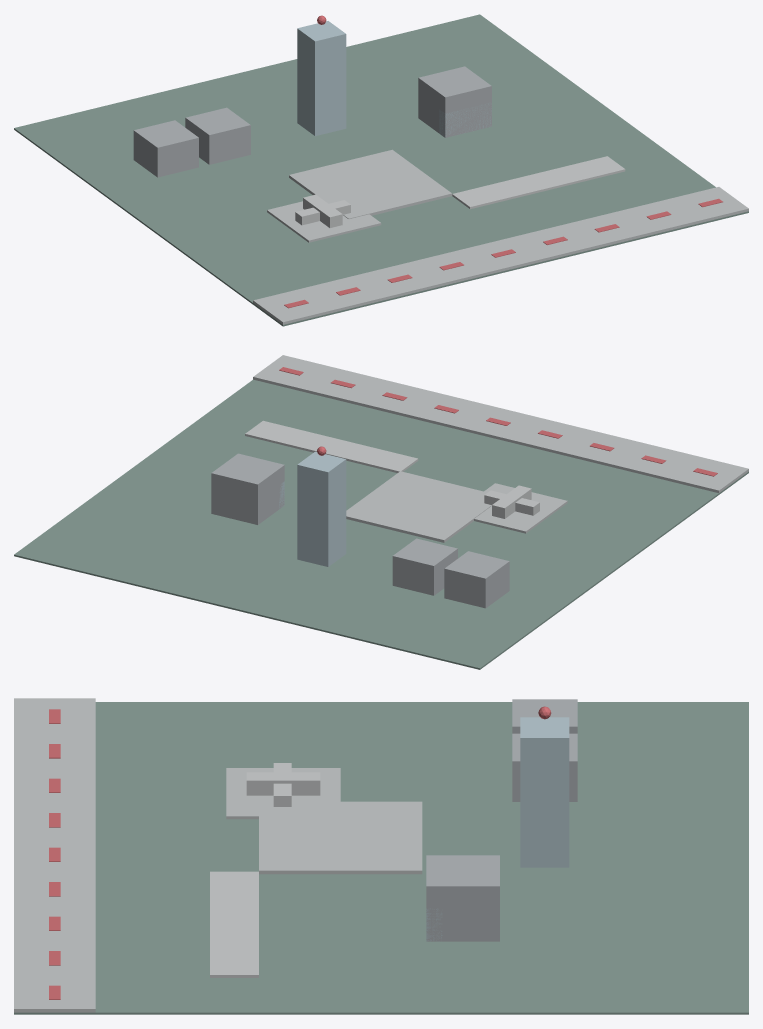
File: stage_07.glb
3 views of the same model, one above another, from view 1: azimuth 30°, elevation 25°; view 2: azimuth 150°, elevation 25°; view 3: azimuth 270°, elevation 25° (orthographic). The views are drawn at different scales.
Visible parts, largest first — view 1: geometry_0; view 2: geometry_0; view 3: geometry_0.
Boxes of the visible parts, x1=… form: geometry_0: x1=14, y1=14, x2=748, y2=326; geometry_0: x1=14, y1=355, x2=748, y2=669; geometry_0: x1=14, y1=698, x2=748, y2=1014.
Bounding box in the file's own units: 9 × 2.06 × 9.
